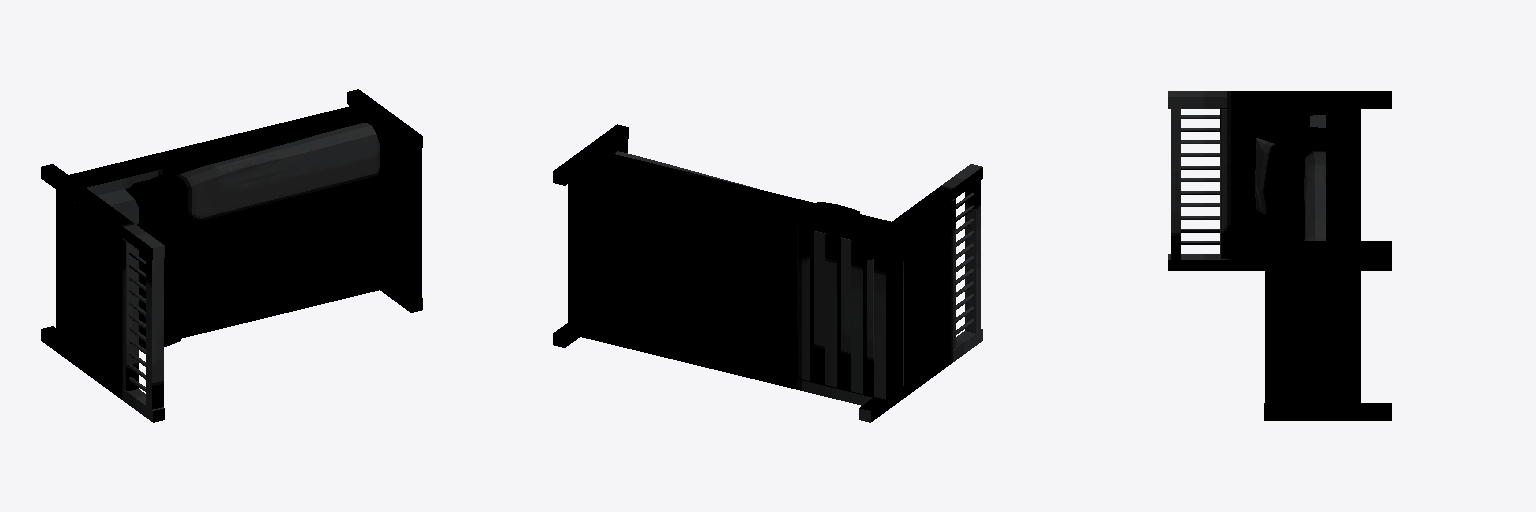
3 views of the same model, side by side, from view 1: azimuth 30°, elevation 25°; view 2: azimuth 150°, elevation 25°; view 3: azimuth 270°, elevation 25° (orthographic).
Size of the model in its own units: 1.98 by 1.04 by 1.21.
1 materials, 1 textured.